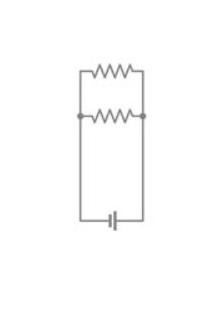resistor: (83, 104, 144, 126), (86, 56, 138, 81)
